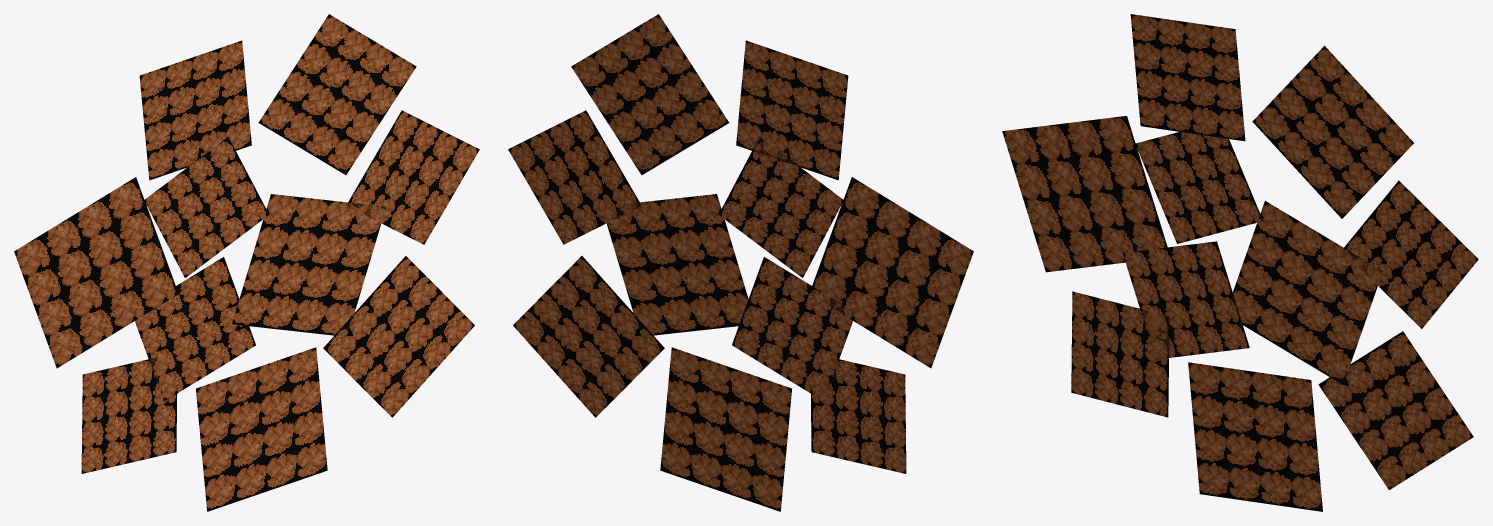
The picture shows the model from 3 angles, left to right: view 1: azimuth 30°, elevation 25°; view 2: azimuth 150°, elevation 25°; view 3: azimuth 330°, elevation 25°; orthographic projection. The views are drawn at different scales.
Visible parts, largest first — view 1: ef_635; view 2: ef_635; view 3: ef_635.
Boxes of the visible parts, x1,y1,x2,y2 form: ef_635: (14,14,479,511); ef_635: (508,14,973,511); ef_635: (1002,14,1478,511).
Bounding box in the file's own units: 0.7645 × 0.7342 × 0.000172.
1 material, 1 textured.
